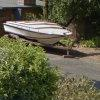Boat: (3, 14, 71, 53)
